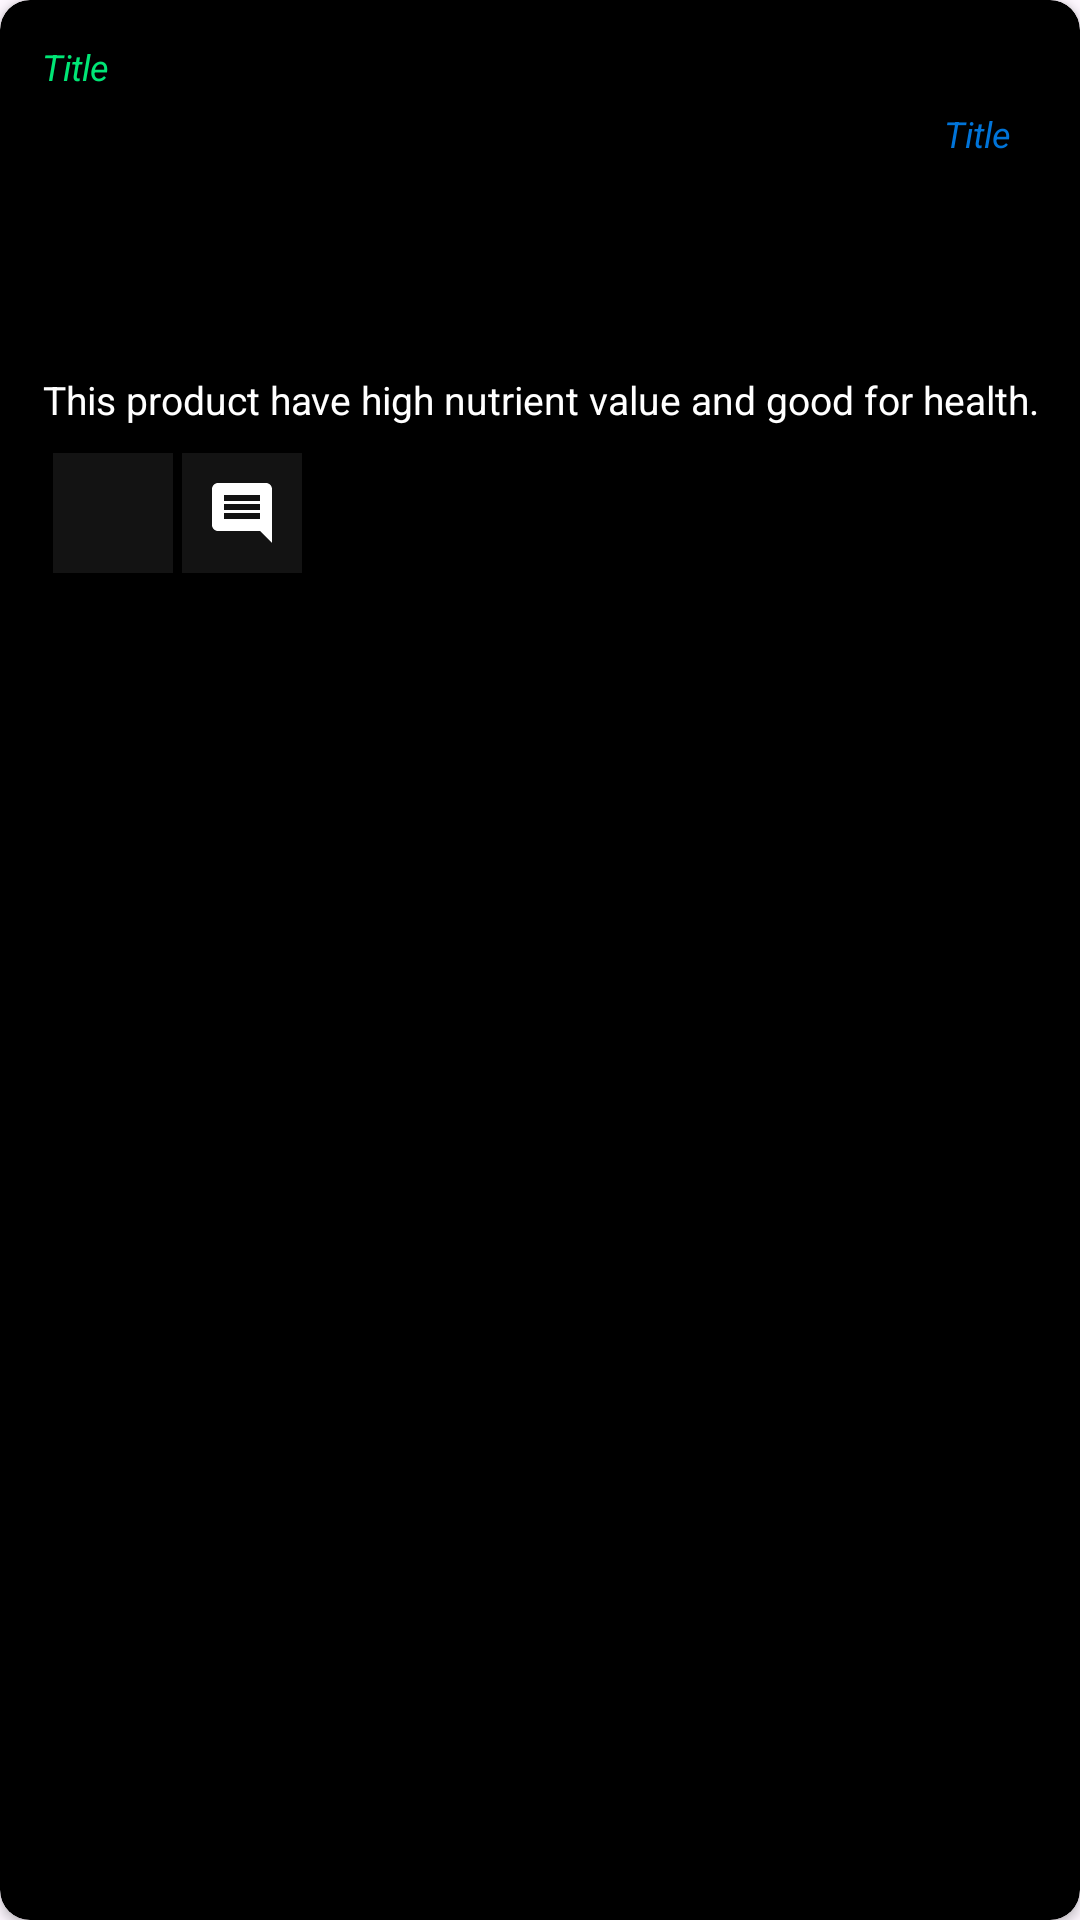

Screen size 1080*1920. Icon name, then its center in pixels as [x,y]:
comments: [242,513]
